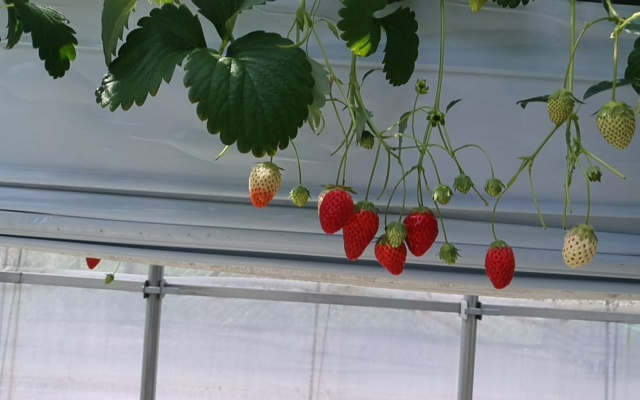GreenStrawberry: (596, 98, 638, 153), (244, 160, 284, 211), (560, 222, 601, 271), (546, 86, 576, 129), (354, 125, 377, 152), (385, 220, 406, 249), (288, 183, 310, 209), (483, 176, 505, 198), (433, 184, 453, 207), (454, 174, 472, 195)
MatureStrawberry: (342, 198, 379, 264), (403, 204, 439, 261), (318, 186, 357, 235), (483, 240, 517, 292), (372, 232, 408, 278)
